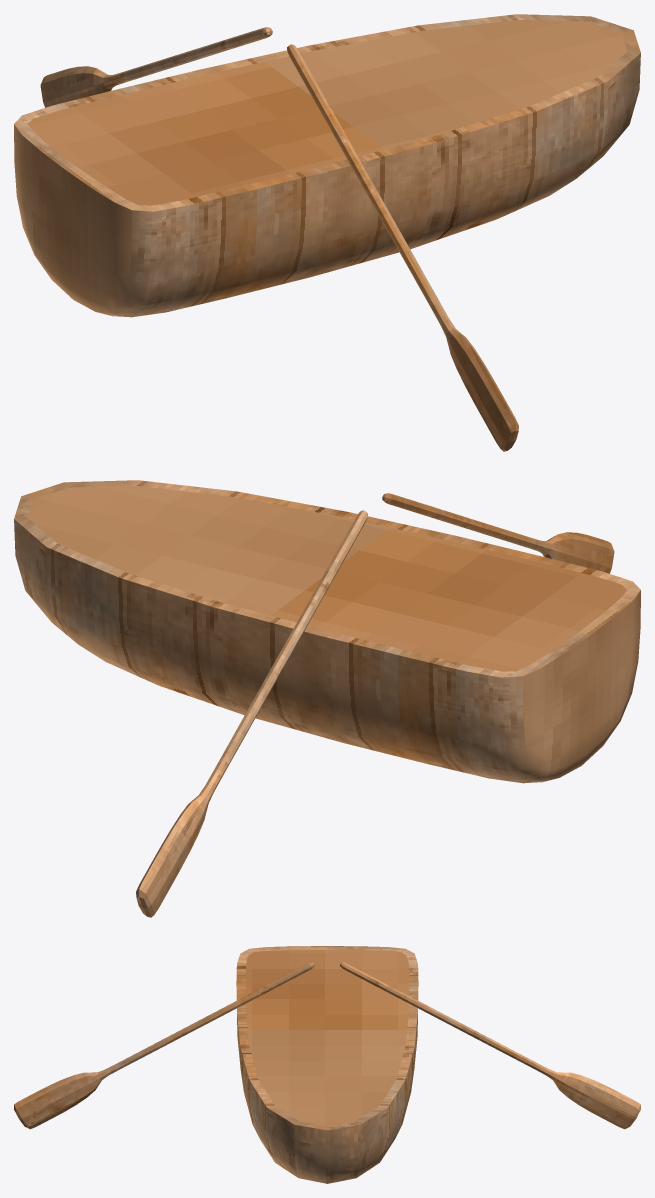
The model's file is rowboat.glb.
The picture shows the model from 3 angles, top to bottom: view 1: azimuth 30°, elevation 25°; view 2: azimuth 150°, elevation 25°; view 3: azimuth 270°, elevation 25°; orthographic projection. The views are drawn at different scales.
Parts seen in each view (by area): view 1: boat, alpha, row.001, row; view 2: boat, alpha, row, row.001; view 3: alpha, boat, row, row.001.
Part boxes in pixels (x1,y1,x2,y2): boat: [14, 14, 640, 317]; alpha: [28, 20, 627, 205]; row.001: [287, 44, 518, 451]; row: [40, 27, 272, 107]; boat: [14, 480, 640, 783]; alpha: [27, 486, 626, 671]; row: [136, 510, 367, 917]; row.001: [382, 493, 614, 573]; alpha: [245, 950, 409, 1126]; boat: [236, 946, 418, 1183]; row: [340, 962, 640, 1129]; row.001: [14, 962, 314, 1129].
Bounding box in the file's own units: 4.79 × 2.02 × 6.89.
2 materials, 2 textured.
